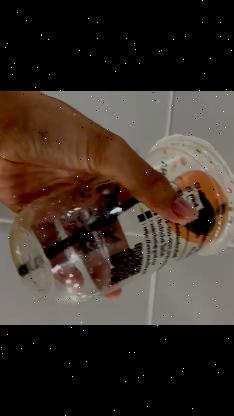Others: (7, 133, 234, 306)
